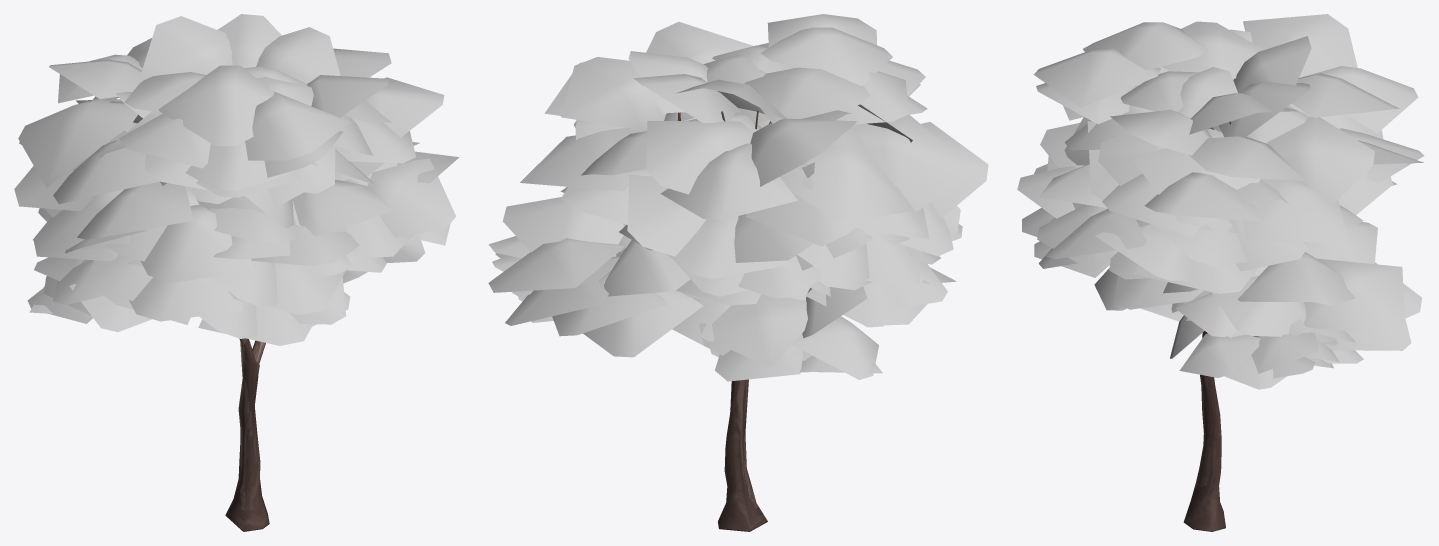
File: Phoebe_Ianceolata_tree.fbx
3 views of the same model, side by side, from view 1: azimuth 30°, elevation 25°; view 2: azimuth 150°, elevation 25°; view 3: azimuth 270°, elevation 25° (orthographic). The views are drawn at different scales.
Parts seen in each view (by area): view 1: phoebe_LOD0; view 2: phoebe_LOD0; view 3: phoebe_LOD0.
Part boxes in pixels (x1=…): phoebe_LOD0: x1=14, y1=14, x2=459, y2=531; phoebe_LOD0: x1=488, y1=14, x2=988, y2=531; phoebe_LOD0: x1=1017, y1=14, x2=1424, y2=531.
Size of what is drawn, in the model's own units: 919 by 999 by 778.
